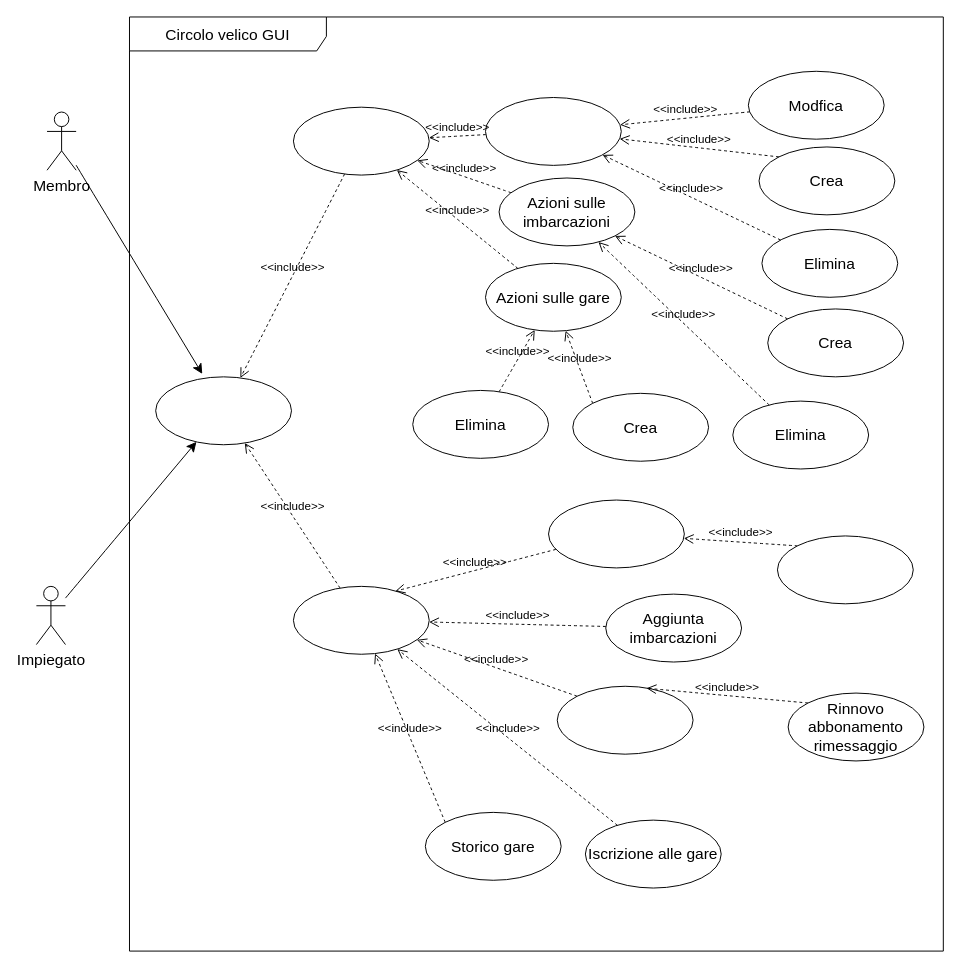
Image size: 960x968. Some labels were removed from this diagram. Each missing label, with the centre of its shape:
"Azioni sui membri" goes at point 553,131.
"Controllo stato abbonamento annuale" goes at point 616,533.
"Controllo stato tassa di rimessaggio" goes at point 624,719.
"Employee Home Page" goes at point 360,619.
"Login" goes at point 223,410.
"Member Home Page" goes at point 360,140.
"Rinnovo abbonamento annuale" goes at point 844,569.
